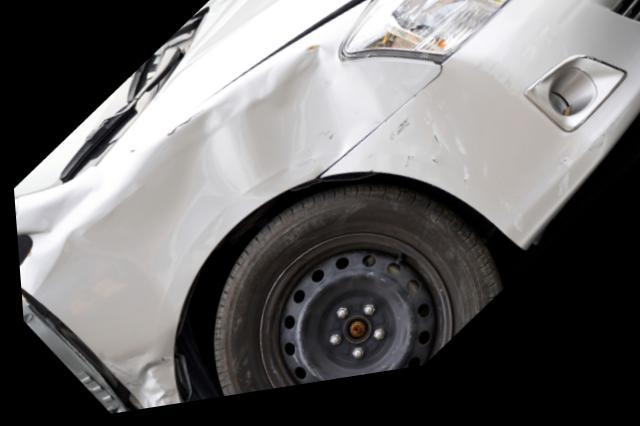dent: (28, 50, 405, 412)
dislocated part: (212, 0, 394, 99)
scratch: (386, 121, 473, 204), (550, 136, 617, 217)
